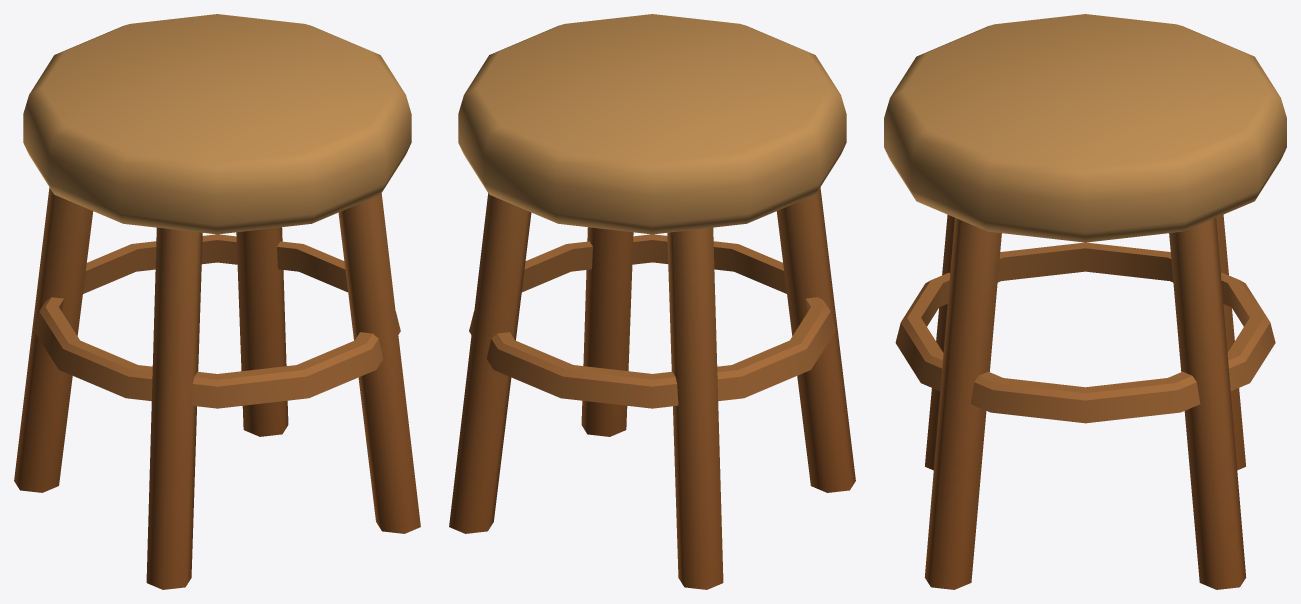
The model's file is Chair_1_B.glb.
3 views of the same model, side by side, from view 1: azimuth 30°, elevation 25°; view 2: azimuth 150°, elevation 25°; view 3: azimuth 270°, elevation 25° (orthographic). The views are drawn at different scales.
Visible parts, largest first — view 1: Chair_1_B; view 2: Chair_1_B; view 3: Chair_1_B.
Boxes of the visible parts, left/top/right/bottom form: Chair_1_B: left=14, top=14, right=420, bottom=589; Chair_1_B: left=449, top=14, right=855, bottom=589; Chair_1_B: left=884, top=14, right=1286, bottom=589.
Bounding box in the file's own units: 0.5002 × 0.591 × 0.5004.
1 material, 1 textured.
